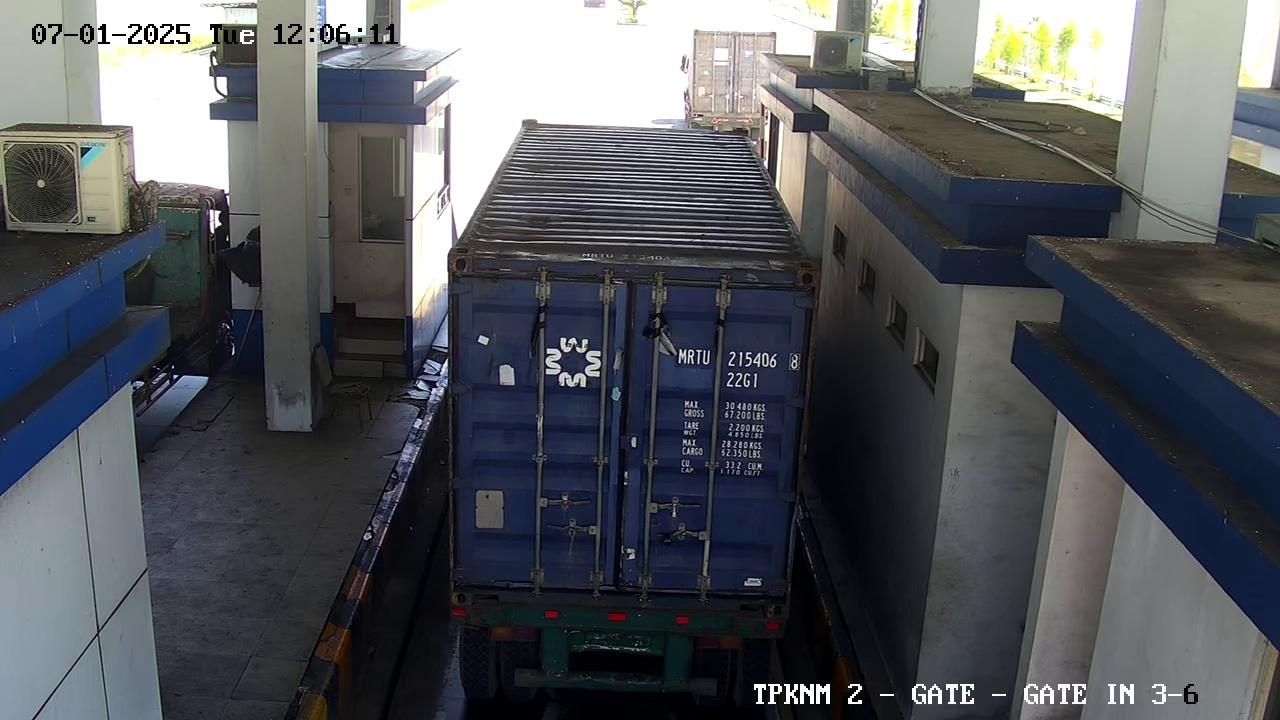Container_ID: (666, 344, 805, 395), (573, 240, 680, 272)
